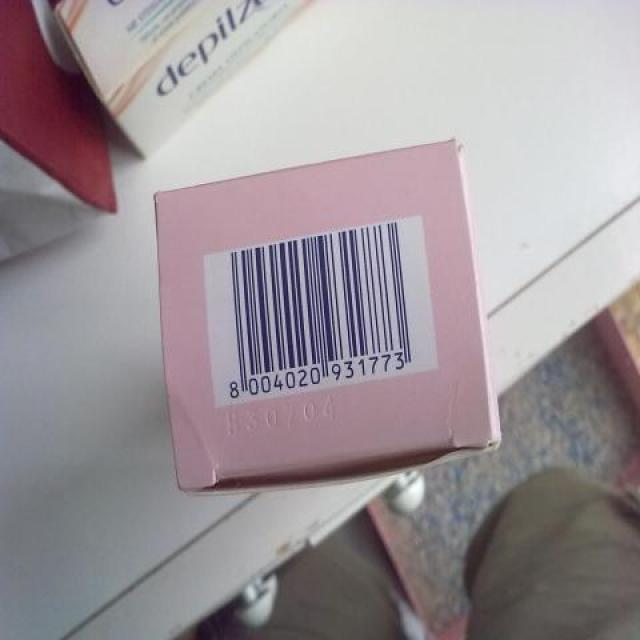Barcode: (202, 212, 441, 408)
